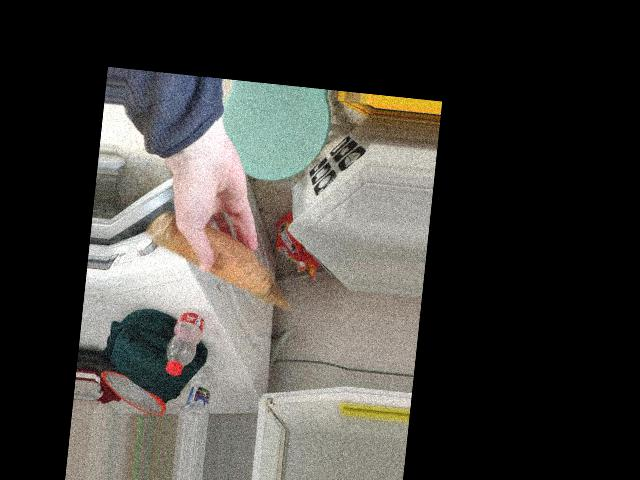sweet_potato: (152, 214, 264, 298)
